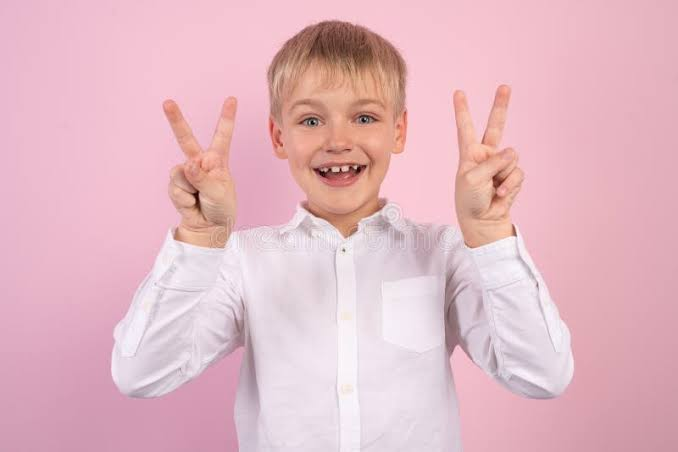peace_sign: (160, 78, 247, 238), (450, 65, 532, 226)
